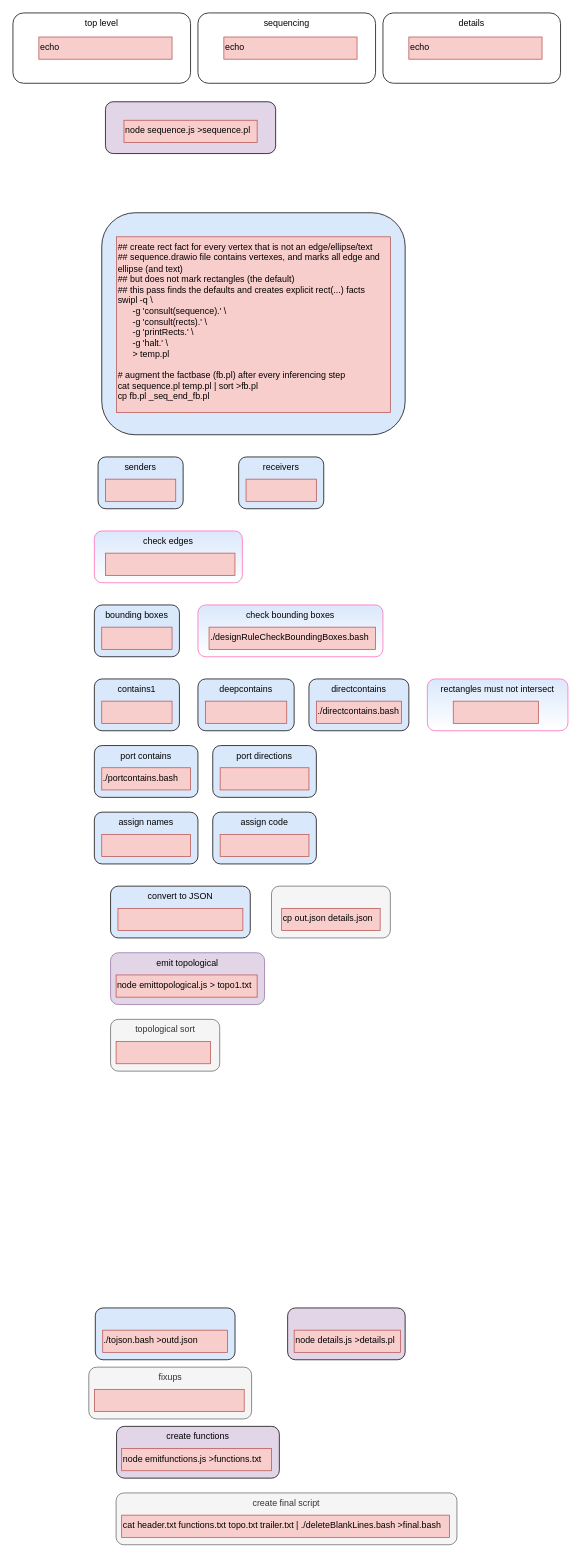
This 581x1558 diagram has some shape labels left out. The box of each missing label's shape, as (x1, y1, x2, y2) in pixels:
./assigncode.bash: (219, 834, 309, 857)
./assignnames.bash: (101, 834, 191, 857)
./bb.bash: (101, 626, 172, 649)
./contains1.bash: (101, 700, 172, 723)
./deepcontains.bash: (205, 700, 287, 723)
./designRule1.bash: (453, 700, 538, 723)
./designRuleCheckEdges.bash: (105, 552, 235, 575)
./fixup.bash <outd.json > details.json: (94, 1389, 244, 1412)
./portdirections.bash: (219, 767, 309, 790)
./receivers.bash: (245, 478, 316, 501)
./senders.bash: (105, 478, 176, 501)
./tojson.bash >out.json: (117, 908, 243, 931)
convert to fb: (105, 101, 276, 154)
convert to JSON details: (95, 1307, 235, 1360)
create sequence JSON: (271, 885, 390, 938)
make rects: (101, 212, 405, 435)
parse details diagram: (287, 1307, 405, 1360)
tsort topo1.txt >topo.txt: (115, 1041, 210, 1064)
